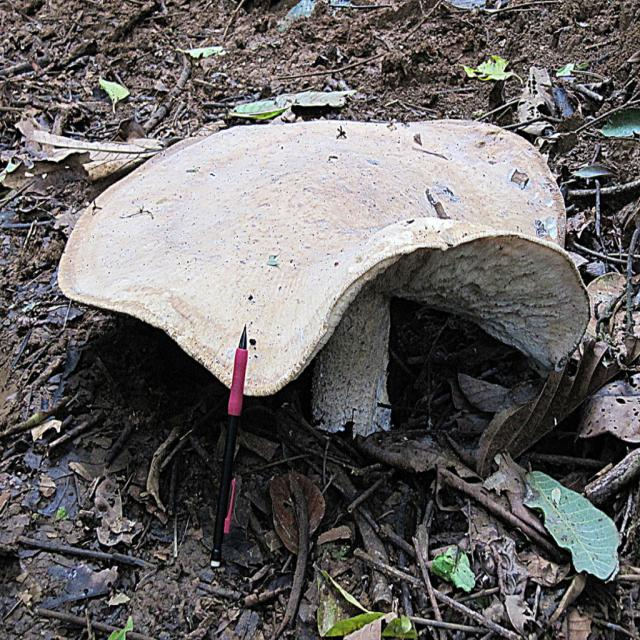Mushroom: (59, 121, 591, 396)
